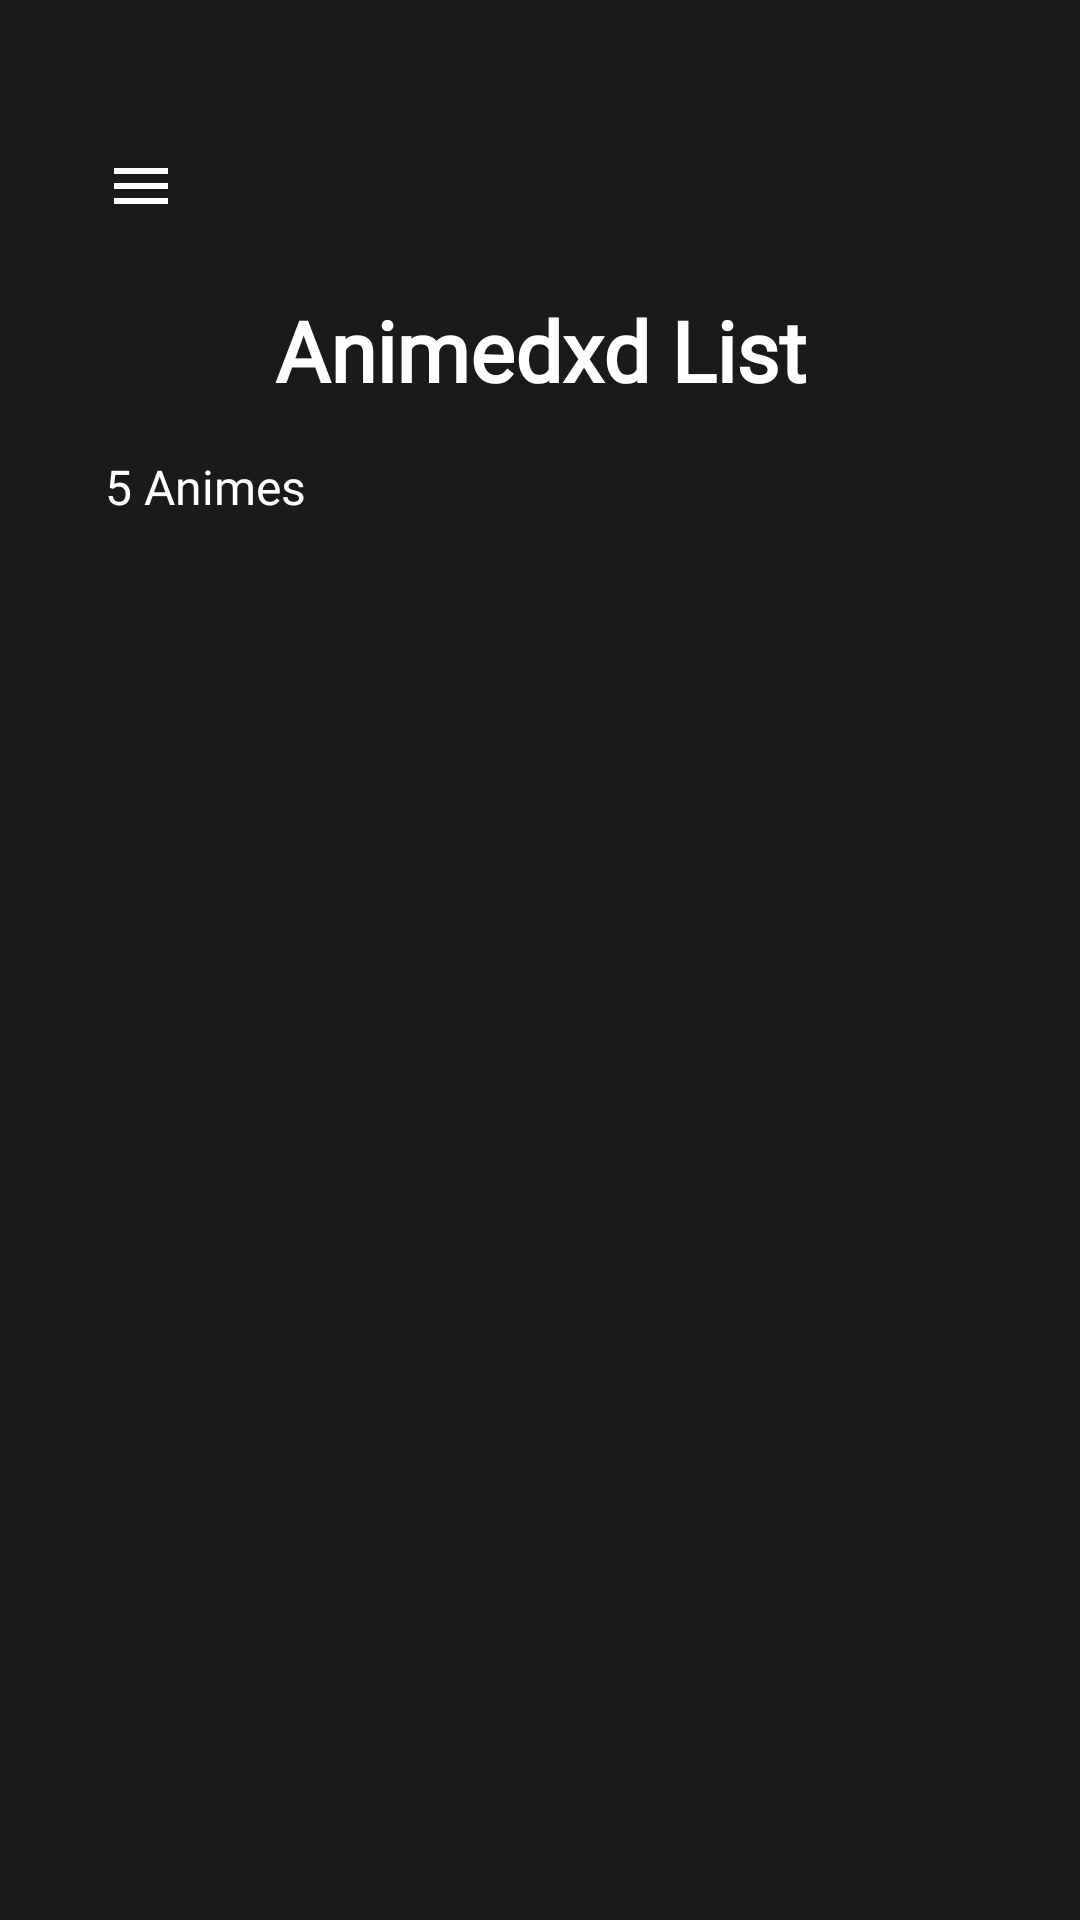

Named icons in this screenshot (1080*1920) and their centers, point (x, y):
Menu: point (141, 186)
